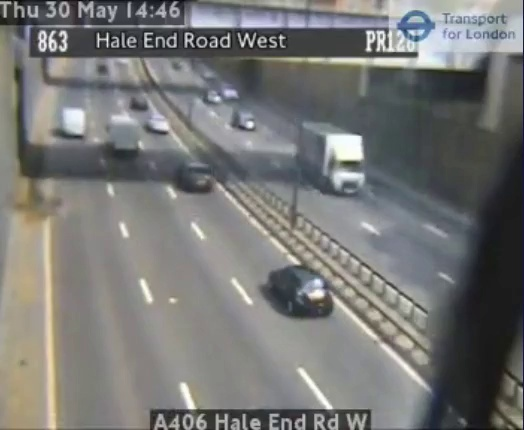car: (270, 266, 333, 317), (179, 163, 214, 192)
van: (110, 116, 138, 154)
